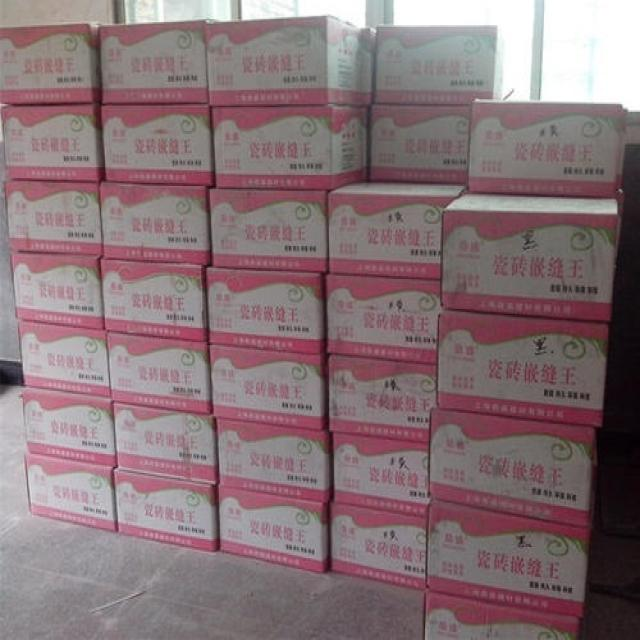box: (440, 191, 618, 322), (435, 309, 609, 427), (428, 407, 595, 528), (424, 500, 589, 618), (468, 98, 622, 195), (205, 14, 362, 106), (329, 180, 466, 279), (212, 106, 362, 191), (205, 266, 325, 356), (375, 24, 506, 106), (325, 273, 440, 363), (209, 189, 328, 273), (100, 20, 218, 104), (216, 418, 332, 503), (209, 345, 326, 429), (328, 355, 439, 443), (219, 486, 330, 572), (99, 181, 211, 265), (101, 102, 214, 183), (106, 331, 211, 413), (329, 501, 425, 590), (113, 404, 219, 484), (115, 470, 220, 550), (0, 22, 102, 104), (102, 260, 206, 340), (1, 104, 108, 181), (332, 432, 431, 515), (369, 104, 468, 183), (22, 386, 116, 468), (421, 590, 581, 638), (15, 320, 111, 397), (9, 252, 104, 329), (4, 181, 102, 254), (27, 452, 115, 531), (616, 109, 628, 189), (364, 27, 376, 104), (362, 104, 371, 180)
